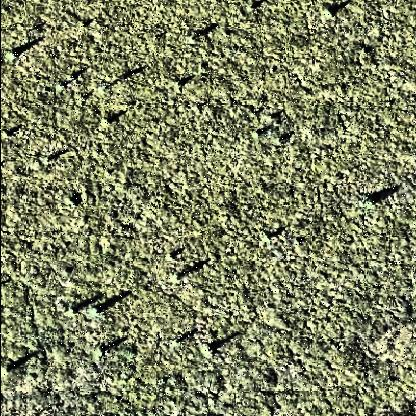tree-top: (198, 340, 219, 358), (364, 196, 380, 214), (4, 47, 20, 65), (89, 303, 105, 319), (66, 304, 82, 320), (322, 3, 338, 19)
